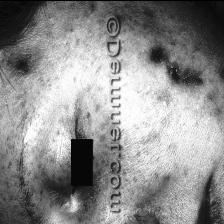Non-Cancerous Skin Condition: (145, 29, 224, 119), (12, 50, 38, 97), (80, 0, 108, 32)
